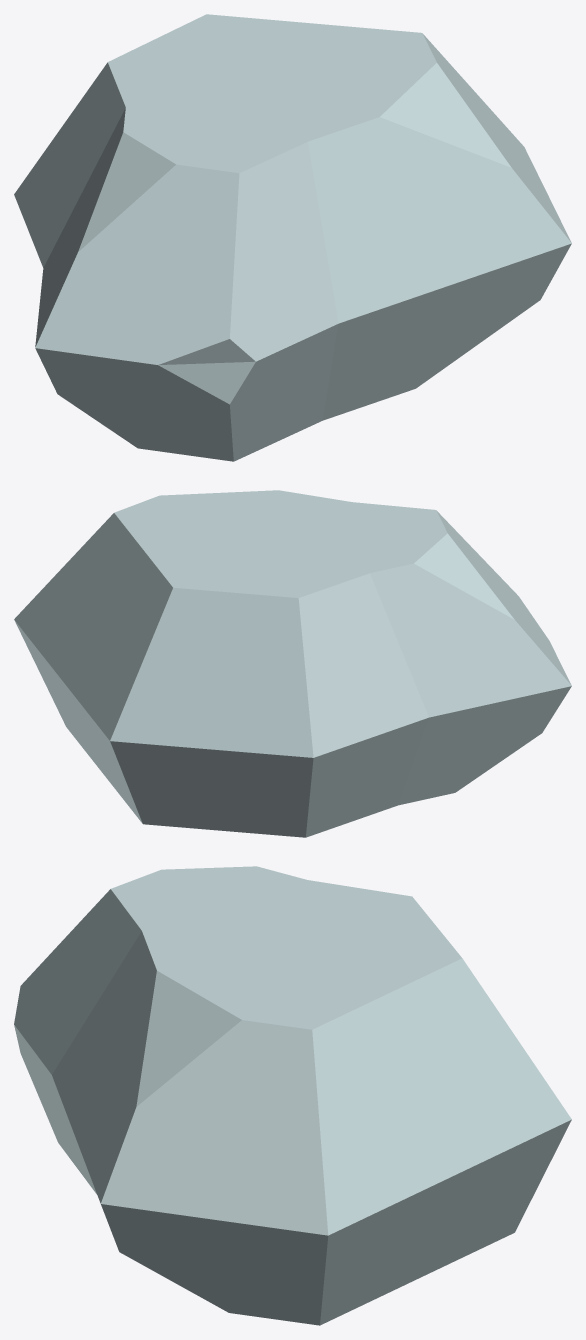
File: stone_largeF.glb
The picture shows the model from 3 angles, top to bottom: view 1: azimuth 30°, elevation 25°; view 2: azimuth 150°, elevation 25°; view 3: azimuth 270°, elevation 25°; orthographic projection. The views are drawn at different scales.
Visible parts, largest first — view 1: stone_largeF; view 2: stone_largeF; view 3: stone_largeF.
Part boxes in pixels (x1,y1,x2,y2): stone_largeF: (14, 14, 571, 461); stone_largeF: (14, 490, 571, 837); stone_largeF: (14, 866, 571, 1325).
Bounding box in the file's own units: 1.1 × 0.479 × 0.899.
